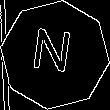N_S: (32, 27, 78, 83)
